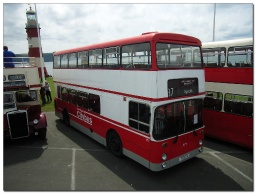bus: (51, 31, 210, 173)
